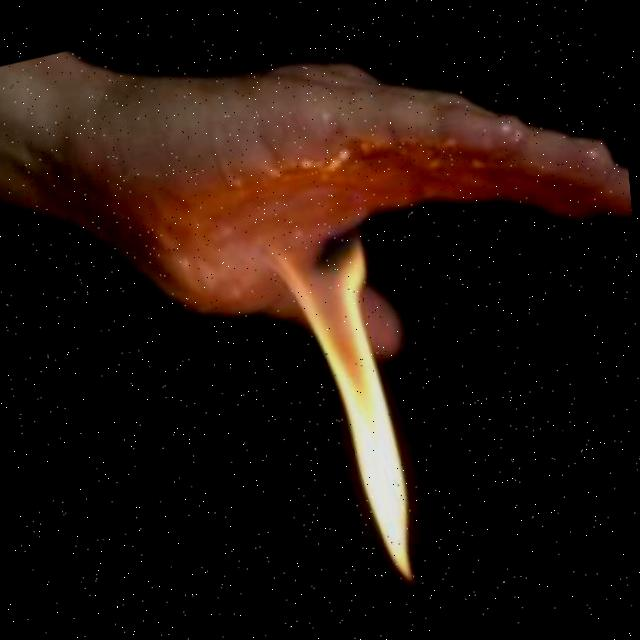fire: (260, 207, 422, 613)
